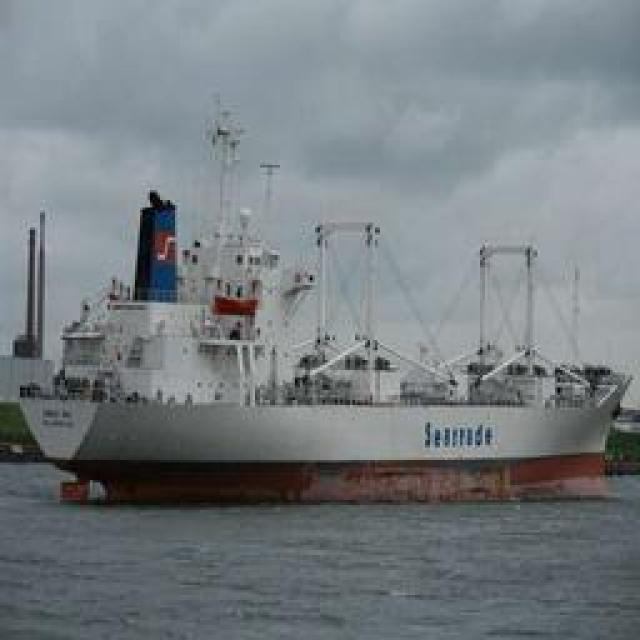CIV_Ship: (15, 155, 625, 490)
